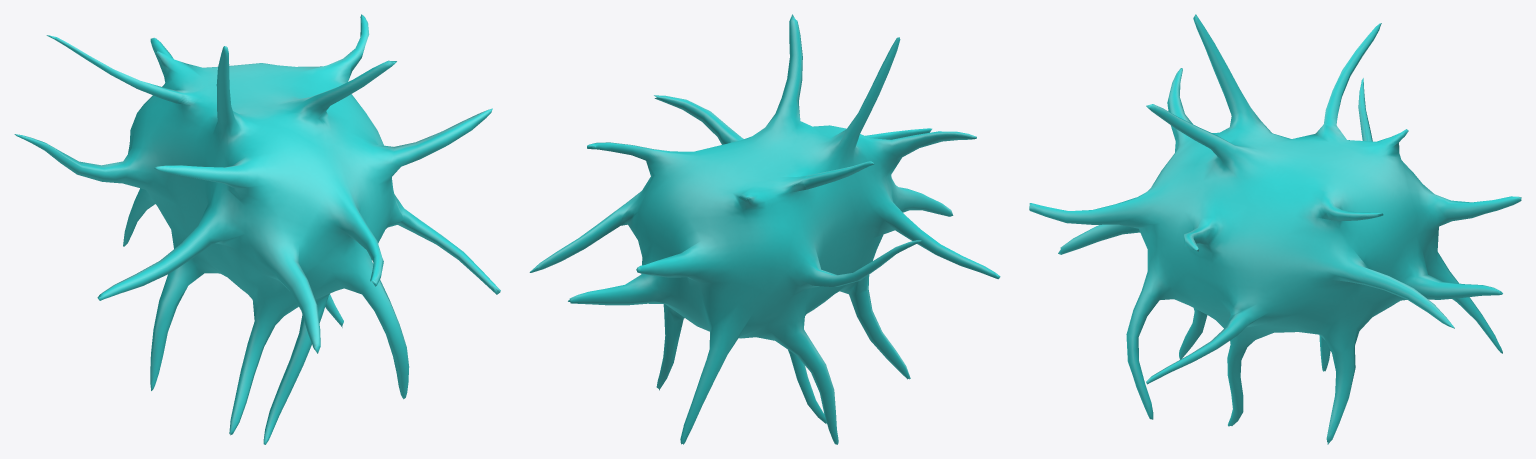
The model's file is thrombocyte.glb.
3 renders of one model, left to right at view 1: azimuth 30°, elevation 25°; view 2: azimuth 150°, elevation 25°; view 3: azimuth 270°, elevation 25°, orthographic. The views are drawn at different scales.
Visible parts, largest first — view 1: red_blood_cell3; view 2: red_blood_cell3; view 3: red_blood_cell3.
Part boxes in pixels (x1,y1,x2,y2): red_blood_cell3: [14, 14, 500, 444]; red_blood_cell3: [529, 14, 1000, 444]; red_blood_cell3: [1029, 14, 1521, 444].
Bounding box in the file's own units: 0.3095 × 0.3251 × 0.3757.
1 material, 1 textured.
